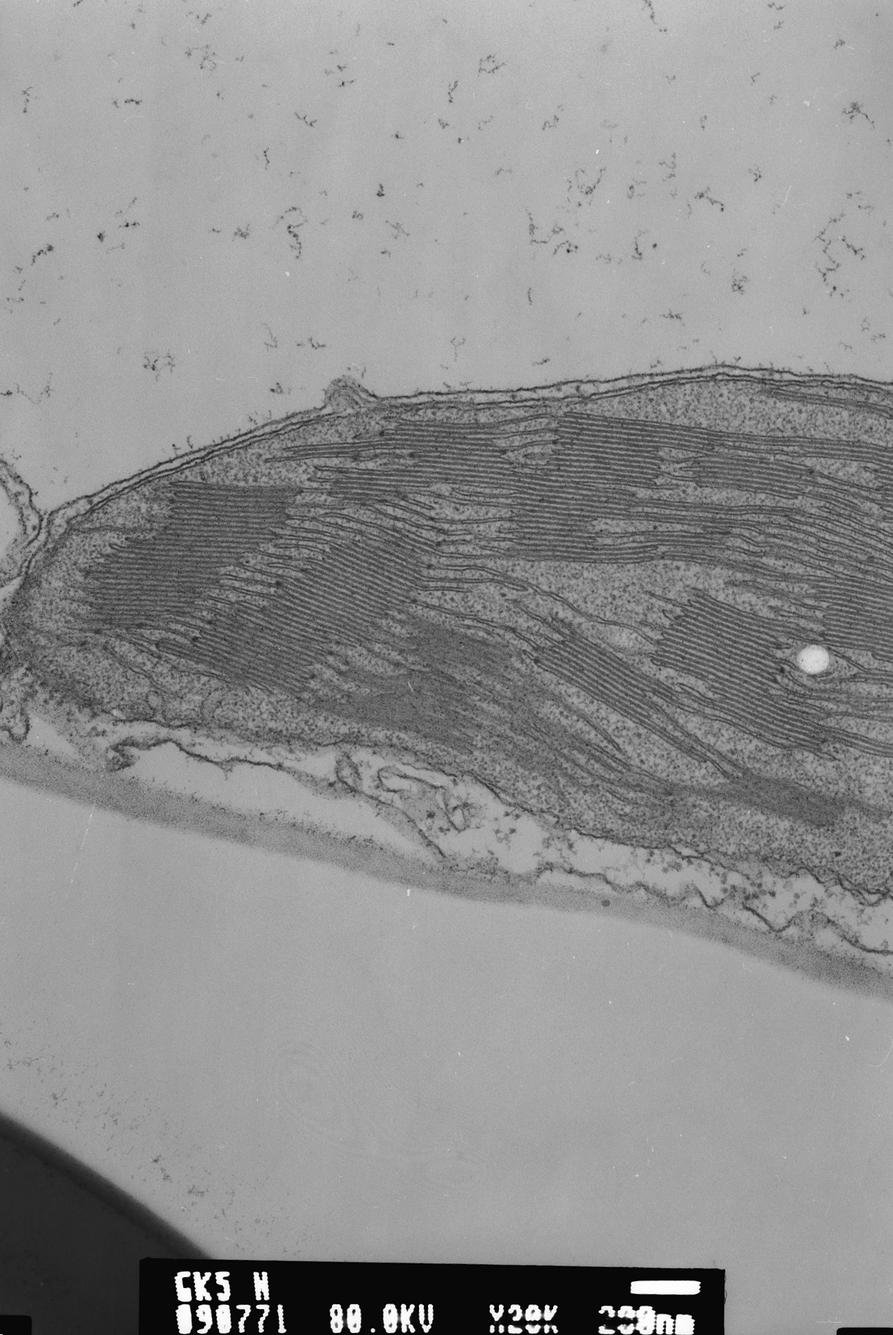granum: (152, 535, 432, 702), (646, 584, 893, 762), (74, 476, 302, 639), (506, 407, 722, 566), (530, 624, 687, 731), (335, 664, 483, 756), (378, 416, 521, 494), (705, 759, 848, 836), (396, 611, 521, 684), (803, 572, 893, 664), (794, 434, 893, 516), (689, 449, 819, 503), (326, 463, 405, 510), (644, 514, 740, 552), (385, 521, 449, 563), (288, 440, 364, 461), (845, 666, 893, 691)
